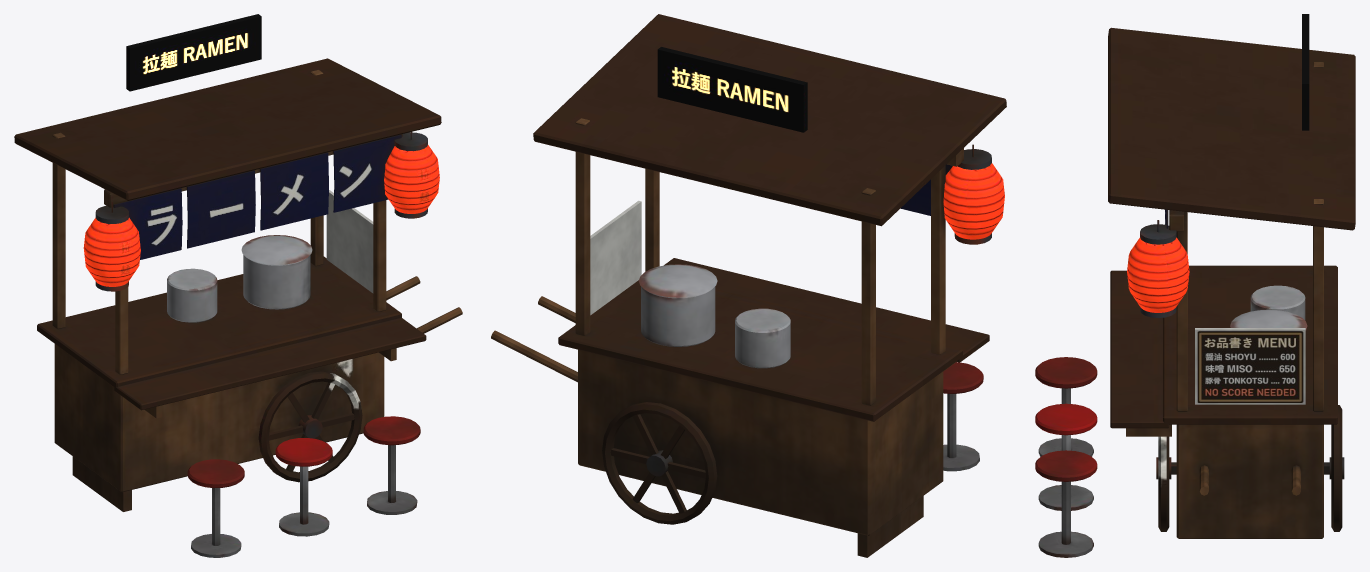
The model's file is ramen_cart.glb.
The picture shows the model from 3 angles, left to right: view 1: azimuth 30°, elevation 25°; view 2: azimuth 150°, elevation 25°; view 3: azimuth 270°, elevation 25°; orthographic projection. The views are drawn at different scales.
Visible parts, largest first — view 1: ramen_cart; view 2: ramen_cart; view 3: ramen_cart.
Part boxes in pixels (bbox=[...]): ramen_cart: bbox=[14, 14, 462, 557]; ramen_cart: bbox=[491, 14, 1006, 557]; ramen_cart: bbox=[1035, 14, 1355, 557].
Size of what is drawn, in the model's own units: 2.7 by 2.7 by 1.74.
1 material, 1 textured.
